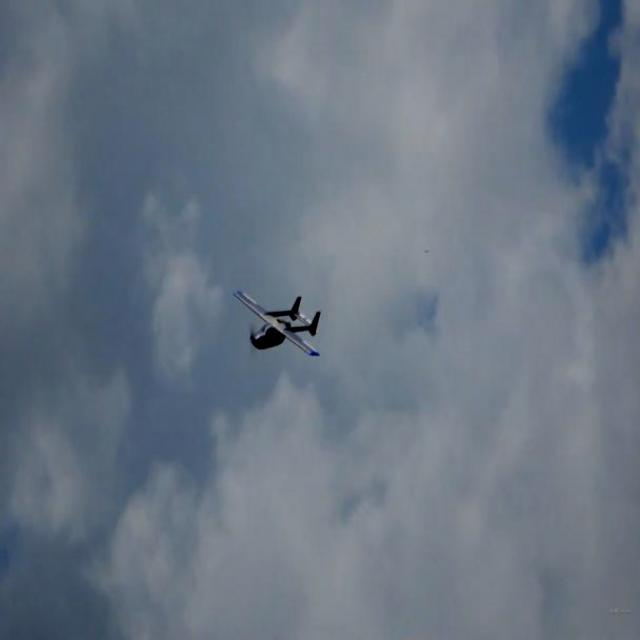iha: (260, 311, 301, 339)
